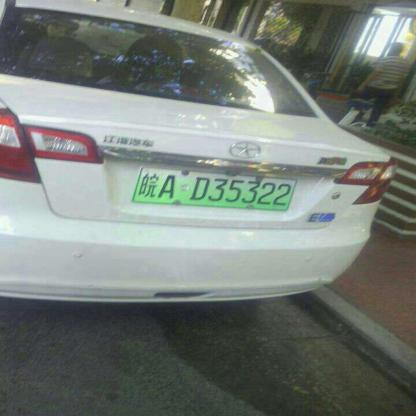lp: (140, 166, 296, 210)
